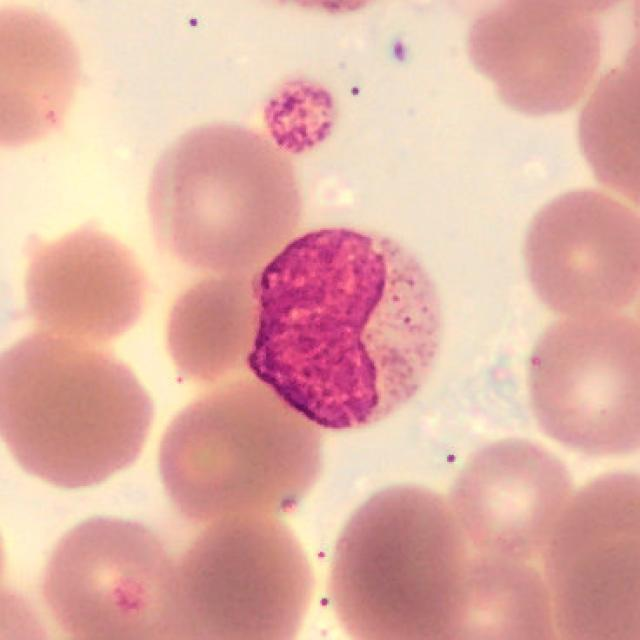Metamielocito: (247, 230, 443, 432)
